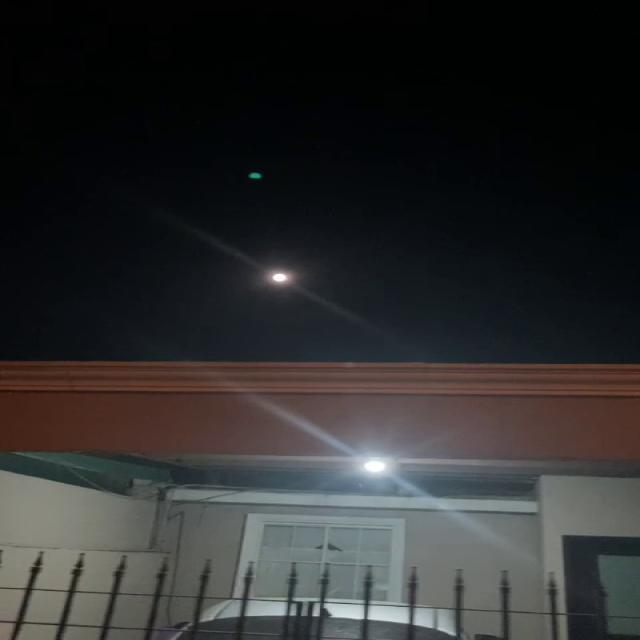moon: (267, 263, 297, 287)
